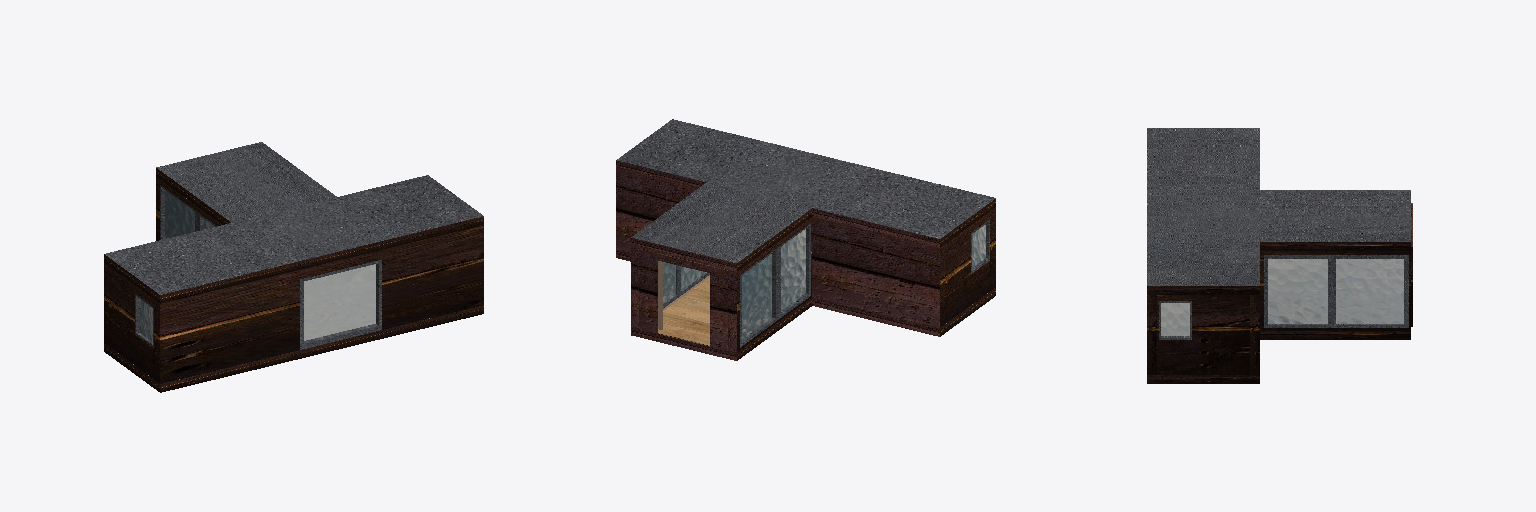
3 views of the same model, side by side, from view 1: azimuth 30°, elevation 25°; view 2: azimuth 150°, elevation 25°; view 3: azimuth 270°, elevation 25° (orthographic).
Visible parts, largest first — view 1: pCube2, pasted__pCube1group9, pasted__pasted__pCube1pasted__group4group10, pasted__pCube3group7, pCube1, pasted__pCube4group8; view 2: pasted__pCube1group9, pasted__pasted__pCube2pasted__group5group6, pasted__pasted__pCube1pasted__group4group10, pasted__pCube4group8, pCube5, pasted__pCube1group4, pasted__pCube3group7, pasted__pCube2group5, pCube4, pCube1; view 3: pasted__pCube1group9, pCube4, pasted__pasted__pCube1pasted__group4group10, pCube3, pasted__pCube1group4, pCube1, pasted__pCube2group5, pCube2.
Part boxes in pixels (bbox=[...]): pCube2: bbox=[155, 225, 483, 383]; pasted__pCube1group9: bbox=[104, 175, 483, 303]; pasted__pasted__pCube1pasted__group4group10: bbox=[156, 142, 336, 224]; pasted__pCube3group7: bbox=[109, 267, 154, 379]; pCube1: bbox=[104, 305, 483, 392]; pasted__pCube4group8: bbox=[156, 177, 221, 240]; pasted__pCube1group9: bbox=[616, 119, 995, 247]; pasted__pasted__pCube2pasted__group5group6: bbox=[812, 217, 944, 327]; pasted__pasted__pCube1pasted__group4group10: bbox=[631, 182, 811, 271]; pasted__pCube4group8: bbox=[728, 218, 811, 351]; pCube5: bbox=[639, 248, 727, 350]; pasted__pCube1group4: bbox=[631, 277, 811, 360]; pasted__pCube3group7: bbox=[945, 211, 990, 323]; pasted__pCube2group5: bbox=[616, 169, 696, 252]; pCube4: bbox=[631, 246, 709, 327]; pCube1: bbox=[616, 249, 995, 336]; pasted__pCube1group9: bbox=[1147, 128, 1259, 294]; pCube4: bbox=[1260, 251, 1410, 330]; pasted__pasted__pCube1pasted__group4group10: bbox=[1260, 190, 1410, 250]; pCube3: bbox=[1157, 295, 1249, 374]; pasted__pCube1group4: bbox=[1260, 331, 1410, 339]; pCube1: bbox=[1147, 375, 1259, 383]; pasted__pCube2group5: bbox=[1250, 295, 1259, 374]; pCube2: bbox=[1147, 295, 1156, 374].
Bounding box in the file's own units: 18.13 × 5.23 × 12.86.
Materials: 11 (8 with a texture image).